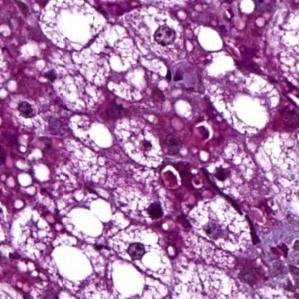ballooning: (54, 185, 133, 250), (37, 3, 111, 52)
